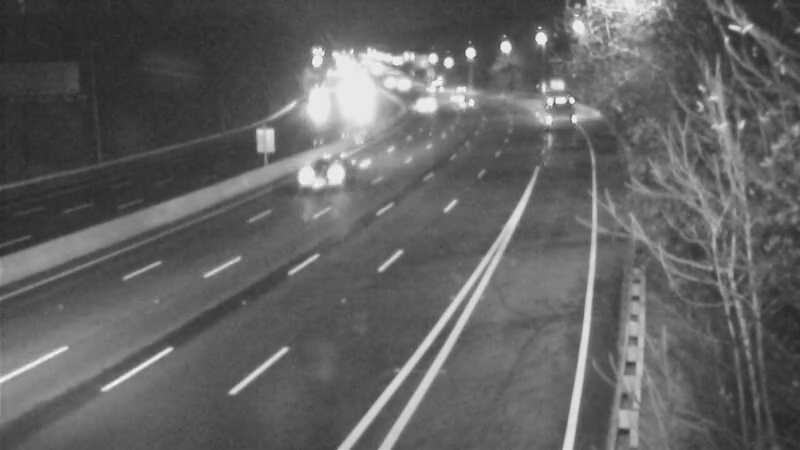vehicle: (291, 127, 371, 207), (401, 57, 451, 107), (362, 60, 412, 110), (435, 60, 485, 110), (423, 75, 473, 125), (443, 80, 493, 130), (531, 80, 581, 130), (290, 66, 340, 116)
